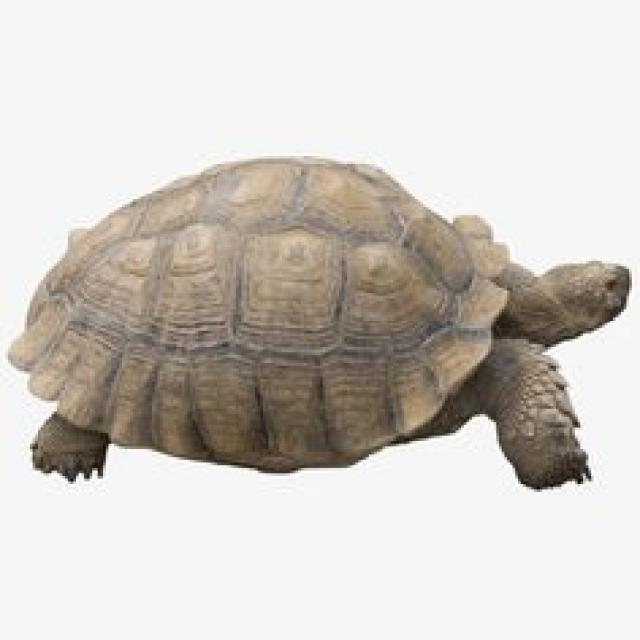Herbivorous: (8, 156, 626, 487)
